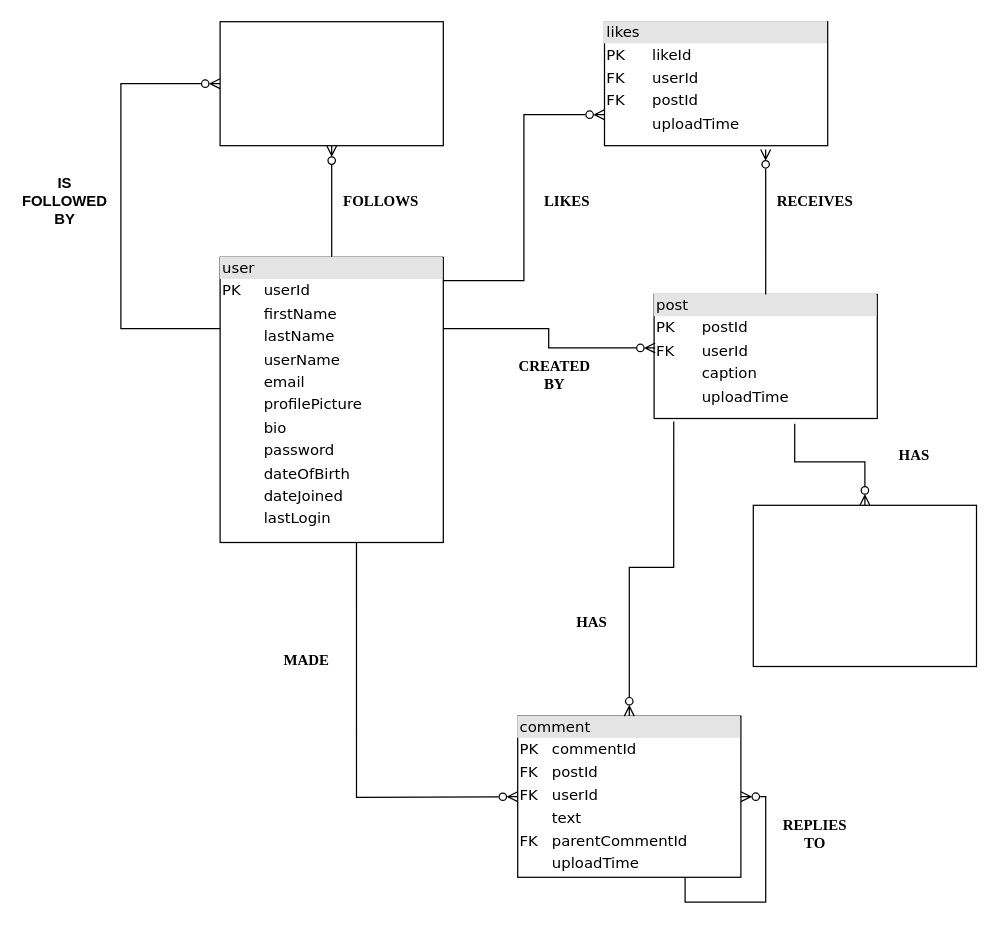
Some shapes in this 998 by 934 pixel diagram are drawn without their labels. The centre of each missing label's shape, as x and y in pixels:
"friendship PK friendshipId FK follower FK followed uploadTime" goes at (x=331, y=83).
"Picture PK pictureId FK postId media type order uploadTime" goes at (x=864, y=585).
